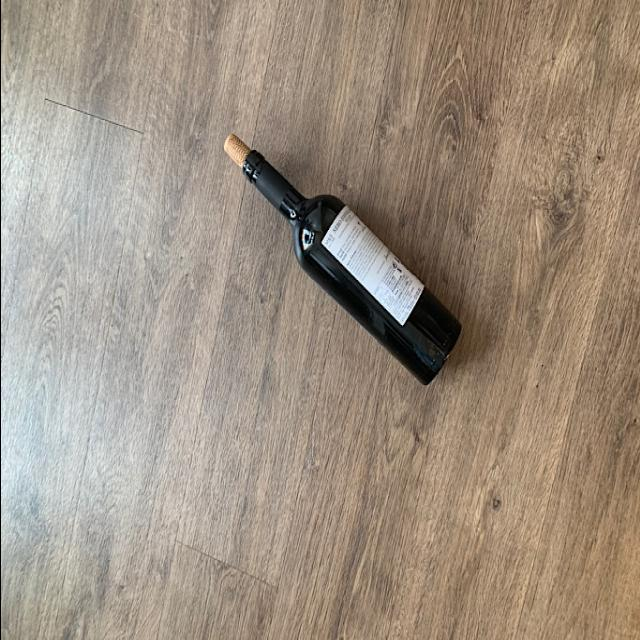Glass Bottle: (236, 146, 460, 386)
